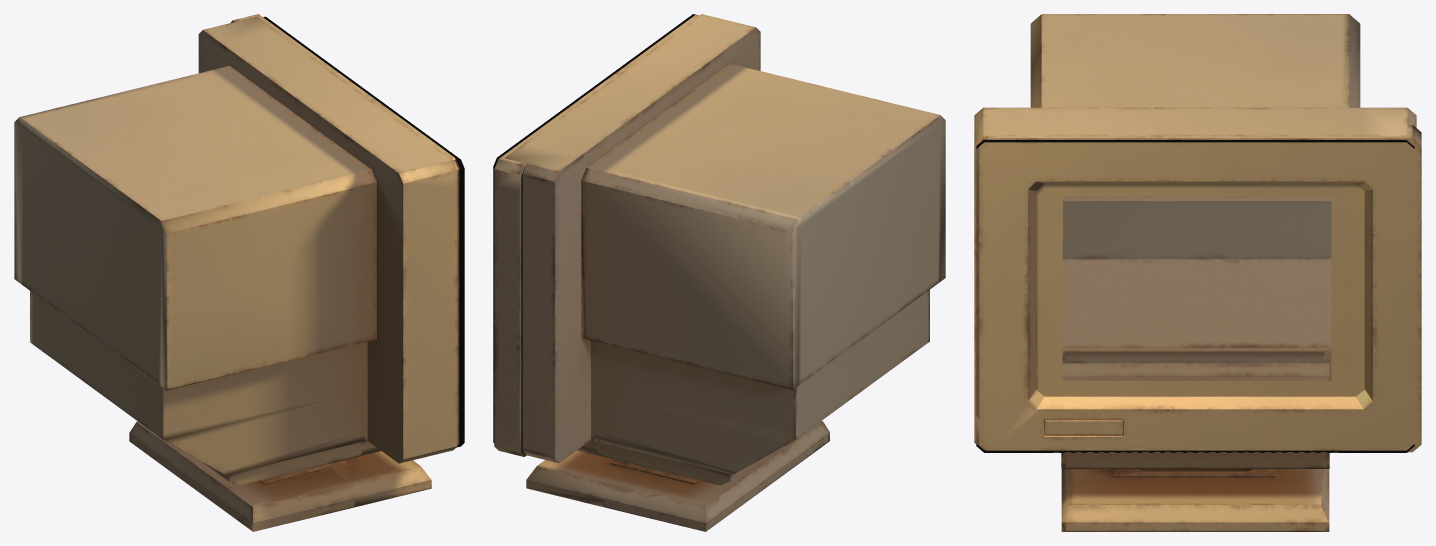
File: olddesktop.gltf
3 views of the same model, side by side, from view 1: azimuth 30°, elevation 25°; view 2: azimuth 150°, elevation 25°; view 3: azimuth 270°, elevation 25° (orthographic). The views are drawn at different scales.
Parts seen in each view (by area): view 1: Box; view 2: Box; view 3: Box.
Boxes of the visible parts, left/top/right/bottom form: Box: left=14, top=14, right=464, bottom=531; Box: left=493, top=14, right=945, bottom=531; Box: left=974, top=14, right=1421, bottom=531.
Size of the model in its own units: 0.163 by 0.2 by 0.2089.
Materials: 2 (2 with a texture image).
